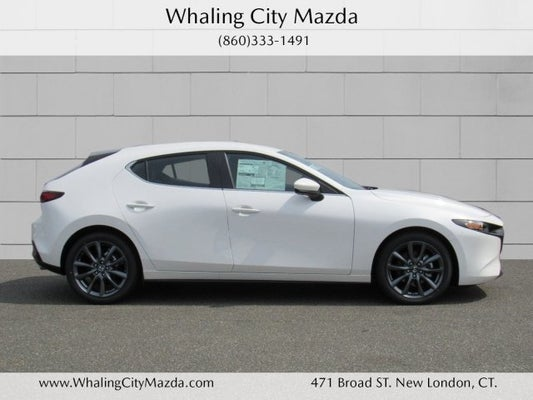Mazda3 Hatchback: (30, 142, 505, 307)
